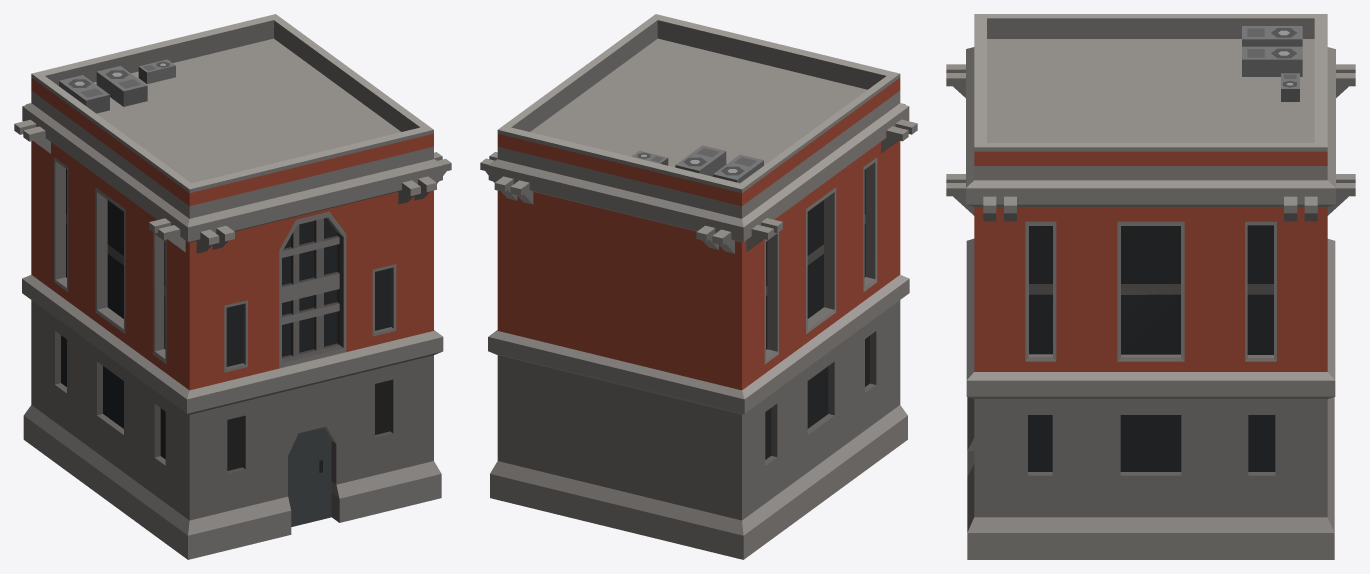
The model's file is SA_Bld_WarehouseOld_01.gltf.
3 renders of one model, left to right at view 1: azimuth 30°, elevation 25°; view 2: azimuth 150°, elevation 25°; view 3: azimuth 270°, elevation 25°, orthographic. The views are drawn at different scales.
Visible parts, largest first — view 1: SA_Bld_WarehouseOld_01; view 2: SA_Bld_WarehouseOld_01; view 3: SA_Bld_WarehouseOld_01.
Part boxes in pixels (x1,y1,x2,y2): SA_Bld_WarehouseOld_01: (14, 14, 451, 559); SA_Bld_WarehouseOld_01: (480, 14, 917, 559); SA_Bld_WarehouseOld_01: (946, 14, 1355, 559).
Size of the model in its own units: 14.67 by 17.89 by 16.18.
1 material, 1 textured.
